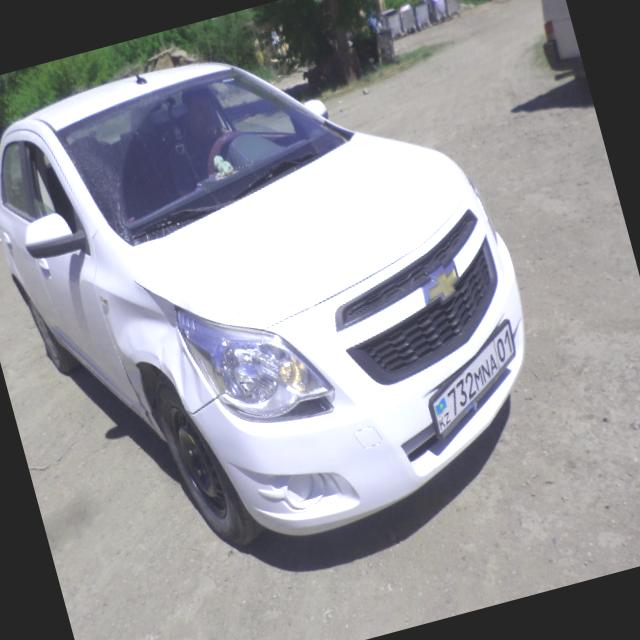Cabossage: (106, 277, 211, 433)
Rayure: (217, 268, 297, 327)
